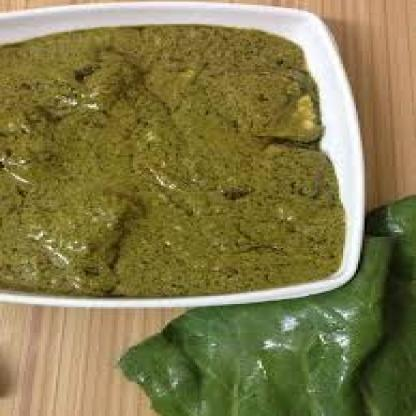palak_paneer: (0, 24, 345, 298)
